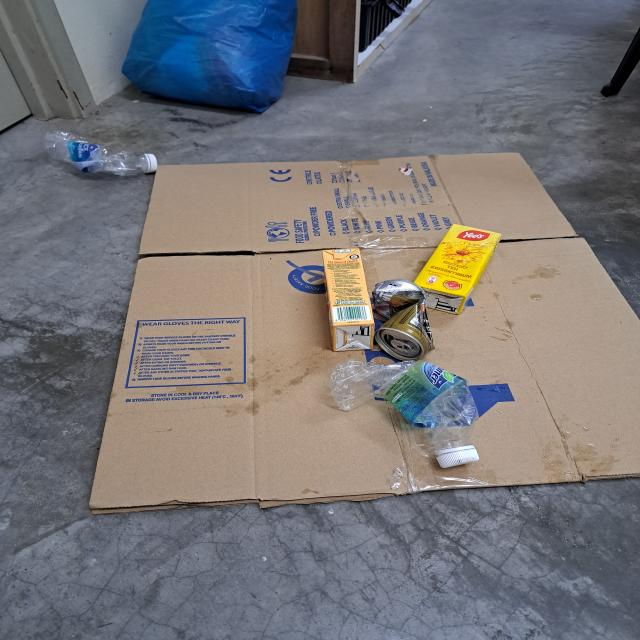can: (372, 279, 436, 362)
cardboard: (86, 152, 640, 512)
drink carton: (412, 224, 502, 315), (321, 248, 374, 352)
plastic bag: (121, 0, 298, 114)
plastic bottle: (330, 358, 479, 448), (42, 130, 148, 177)
plastic bottle cap: (436, 448, 480, 468), (144, 153, 158, 173)
pop tab: (391, 340, 412, 354)
